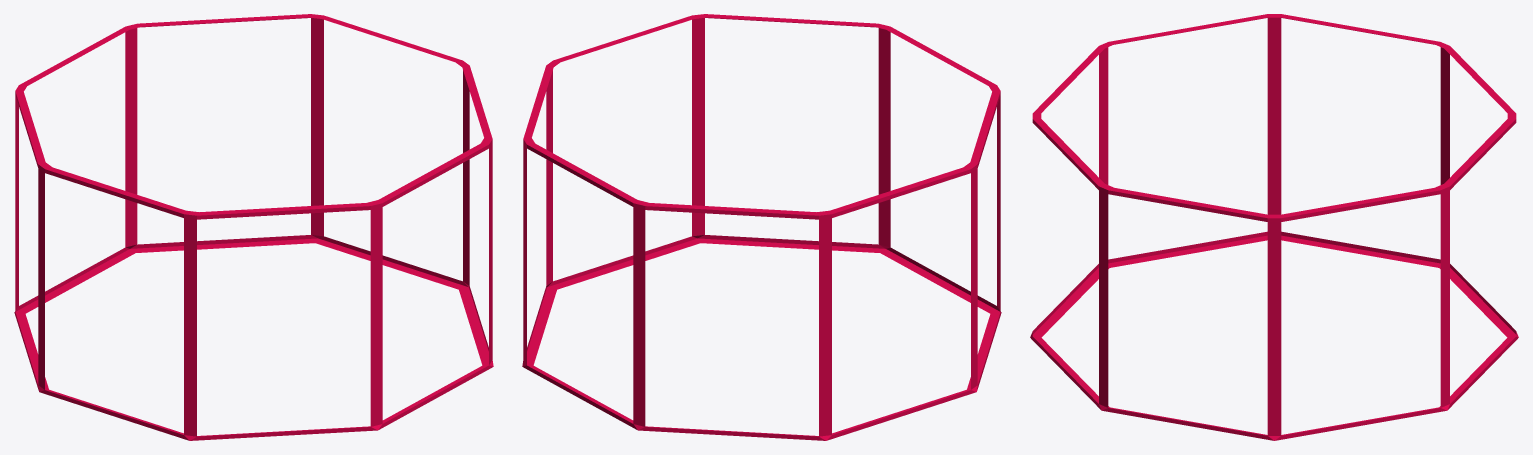
The model's file is hexagon3.glb.
The picture shows the model from 3 angles, left to right: view 1: azimuth 30°, elevation 25°; view 2: azimuth 150°, elevation 25°; view 3: azimuth 270°, elevation 25°; orthographic projection.
Parts seen in each view (by area): view 1: Object; view 2: Object; view 3: Object.
Part boxes in pixels (x1=…): Object: x1=14, y1=14, x2=493, y2=440; Object: x1=522, y1=14, x2=1001, y2=440; Object: x1=1030, y1=14, x2=1518, y2=440.
Size of the model in its own units: 2 by 1 by 2.
